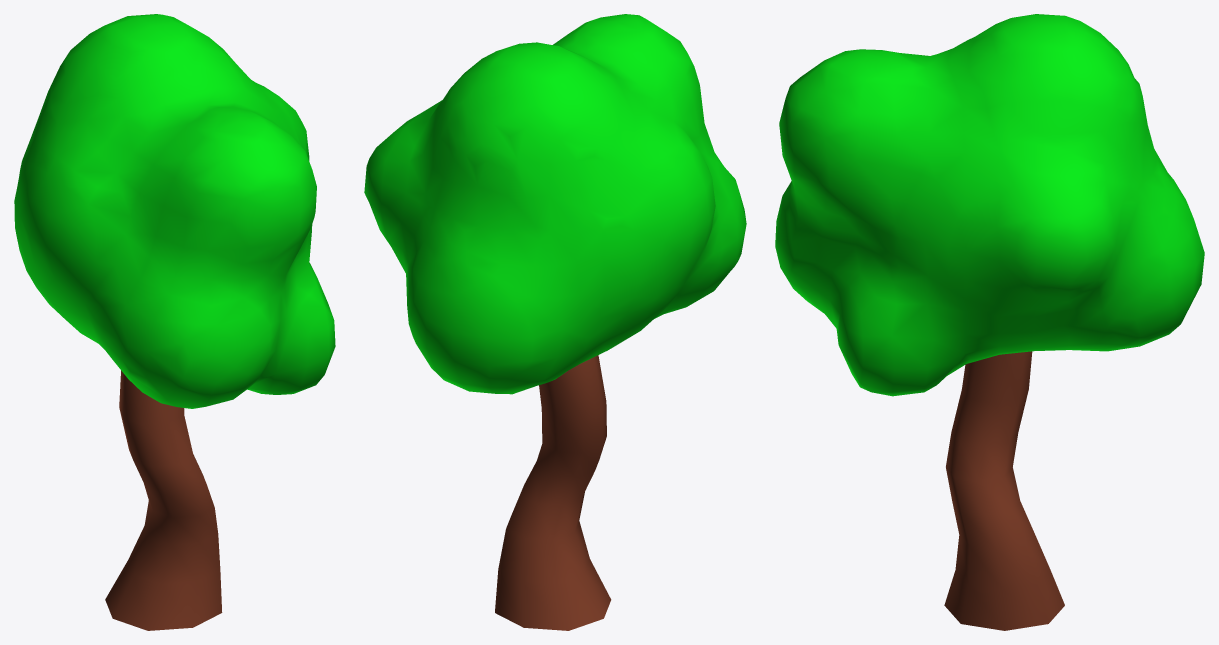
Rendered from Tree_002.fbx.
3 views of the same model, side by side, from view 1: azimuth 30°, elevation 25°; view 2: azimuth 150°, elevation 25°; view 3: azimuth 270°, elevation 25° (orthographic). The views are drawn at different scales.
Parts seen in each view (by area): view 1: Baum2; view 2: Baum2; view 3: Baum2.
Part boxes in pixels (x1,y1,x2,y2): Baum2: (14,14,335,630); Baum2: (364,14,746,630); Baum2: (775,14,1204,630).
Bounding box in the file's own units: 2.5 × 4.6 × 3.08.
